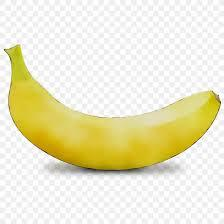non-mango: (3, 43, 221, 170)
